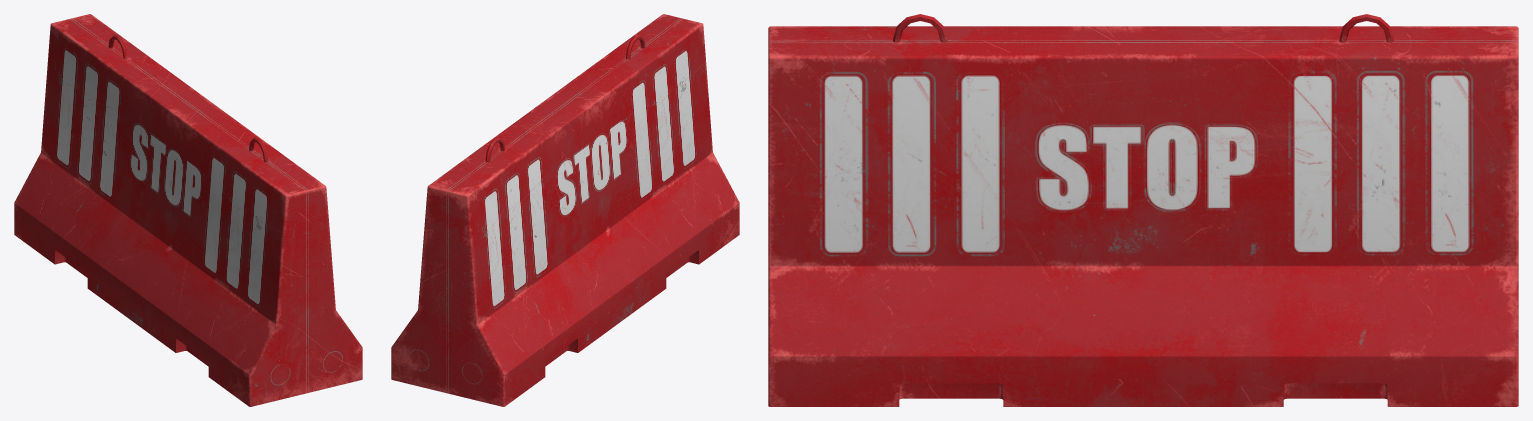
Rendered from plastic_barrier.glb.
3 renders of one model, left to right at view 1: azimuth 30°, elevation 25°; view 2: azimuth 150°, elevation 25°; view 3: azimuth 270°, elevation 25°, orthographic. The views are drawn at different scales.
Parts seen in each view (by area): view 1: Object_3; view 2: Object_3; view 3: Object_3.
Boxes of the visible parts, left/top/right/bottom form: Object_3: left=14, top=14, right=362, bottom=406; Object_3: left=391, top=14, right=739, bottom=406; Object_3: left=768, top=14, right=1518, bottom=406.
Size of the model in its own units: 27.09 by 50.1 by 97.65.
Materials: 1 (1 with a texture image).
